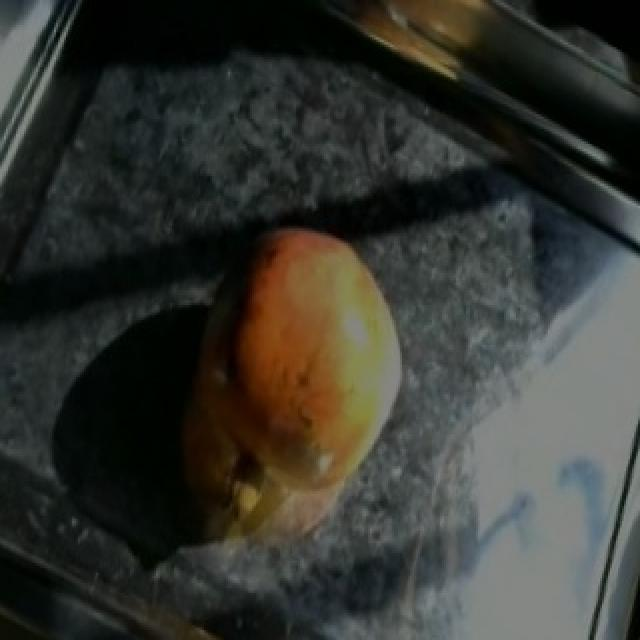fruit: (174, 188, 440, 469)
